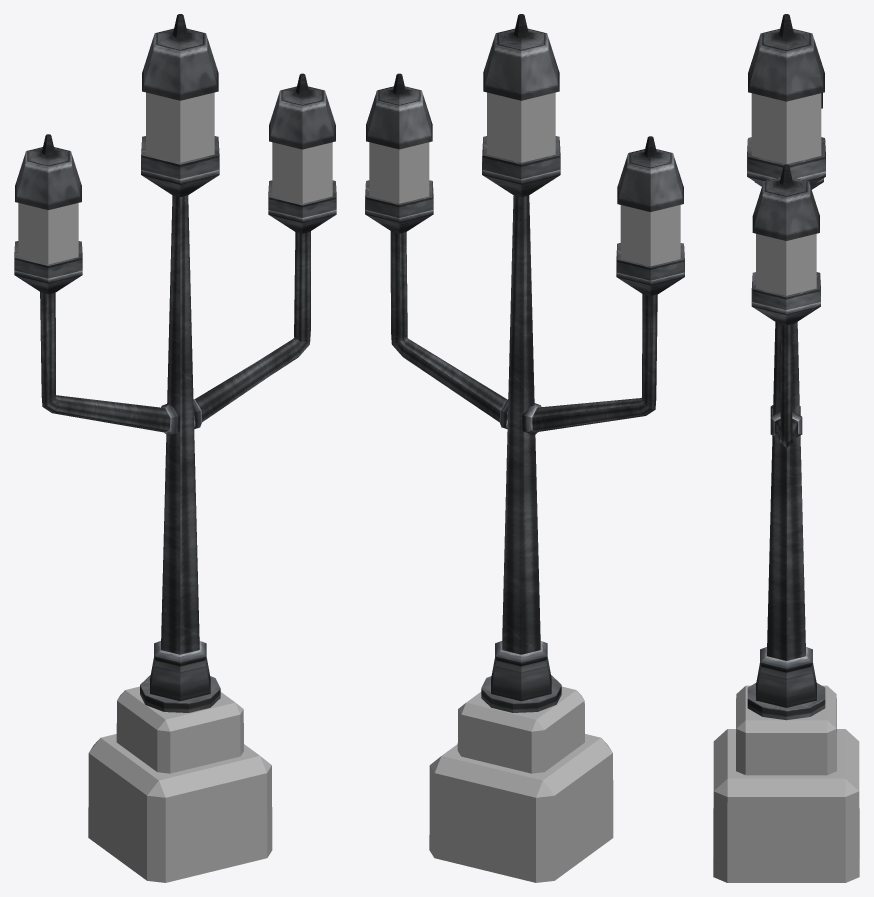
Rendered from adv2_lamp.fbx.
3 renders of one model, left to right at view 1: azimuth 30°, elevation 25°; view 2: azimuth 150°, elevation 25°; view 3: azimuth 270°, elevation 25°, orthographic.
Parts seen in each view (by area): view 1: Default_Layer; view 2: Default_Layer; view 3: Default_Layer.
Part boxes in pixels (x1,y1,x2,y2): Default_Layer: (14, 14, 336, 882); Default_Layer: (365, 14, 684, 882); Default_Layer: (713, 14, 859, 882).
Bounding box in the file's own units: 190 × 468 × 74.02.
